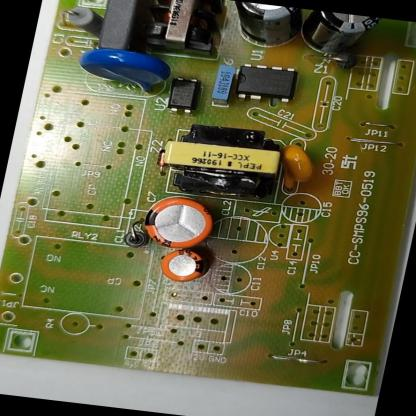Cap1: (135, 190, 223, 256)
Cap2: (154, 245, 212, 287)
Cap3: (220, 0, 308, 52)
Cap4: (293, 9, 384, 64)
MOSFET: (230, 60, 302, 105)
Mov: (70, 43, 176, 99)
Resistor: (57, 2, 112, 43)
Transformer: (153, 118, 292, 206), (132, 0, 230, 61)
